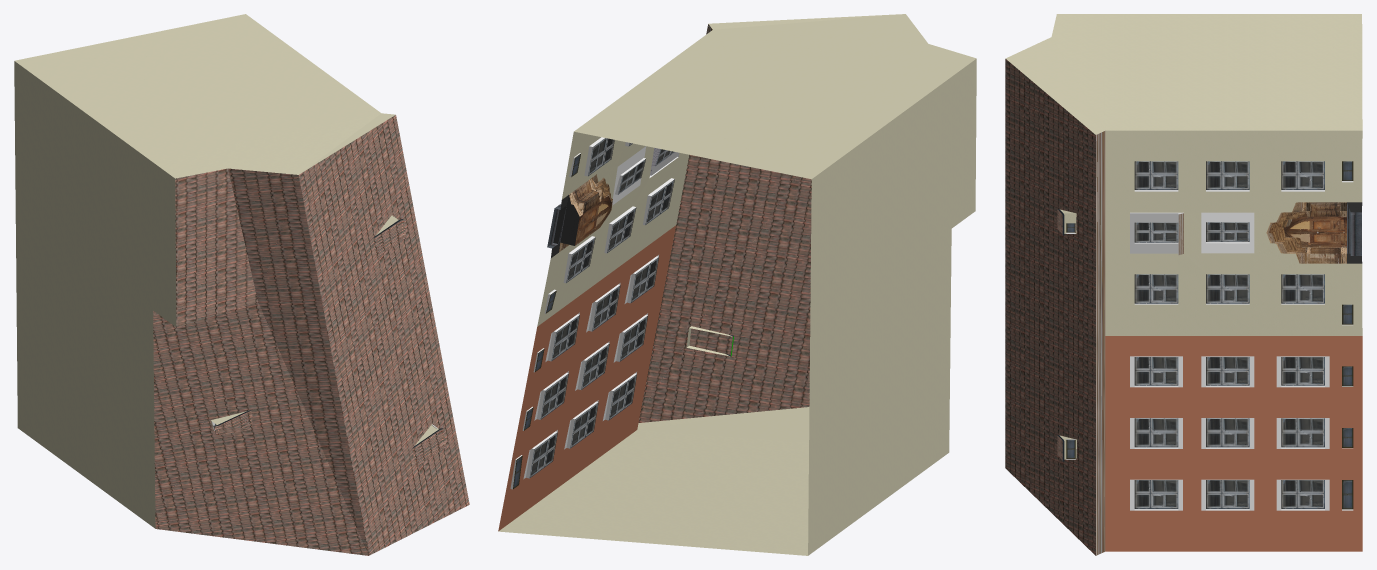
Rendered from Suur-Karia_12-origo.obj.
3 views of the same model, side by side, from view 1: azimuth 30°, elevation 25°; view 2: azimuth 150°, elevation 25°; view 3: azimuth 270°, elevation 25° (orthographic). The views are drawn at different scales.
Parts seen in each view (by area): view 1: Suur_Karia_12; view 2: Suur_Karia_12; view 3: Suur_Karia_12.
Boxes of the visible parts, <box> form: Suur_Karia_12: <box>14,14,469,555</box>; Suur_Karia_12: <box>498,14,976,555</box>; Suur_Karia_12: <box>1005,14,1362,555</box>.
Size of the model in its own units: 16.56 by 21 by 17.15.
